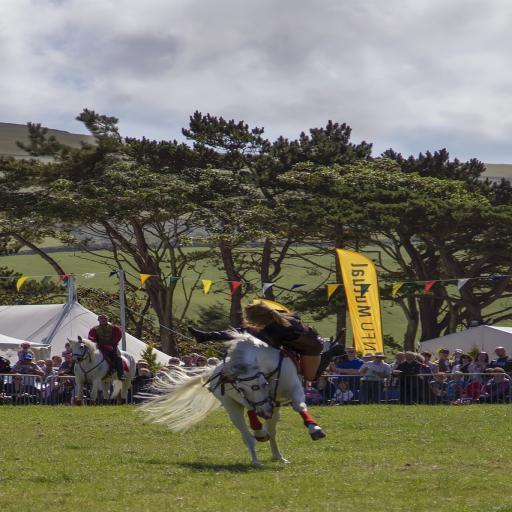horse: (134, 327, 330, 466), (62, 334, 138, 403)
